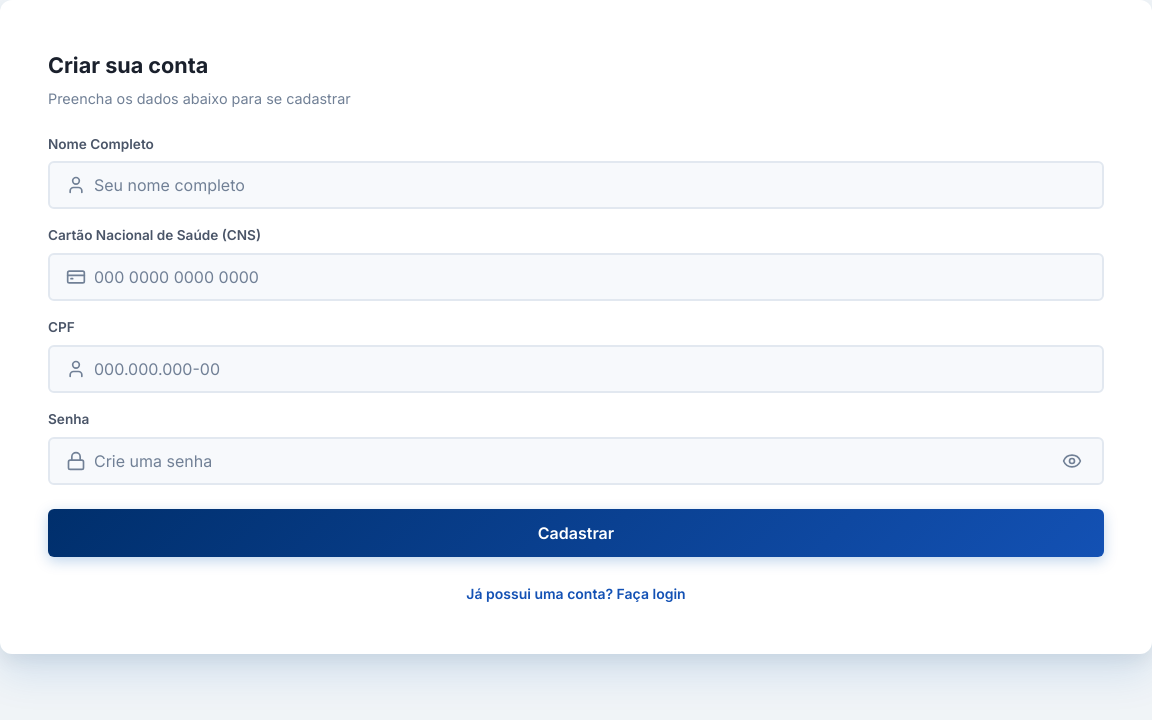
Scenario: 📝 RegisterForm — Validação de Formulário de Cadastro › TC-R03 | Deve rejeitar nome com menos de 3 caracteres
The width and height of the screenshot is (1152, 720).
Type "AB" into the field with placeholder "Seu nome completo" at (590, 185), box [94,167,1086,203]
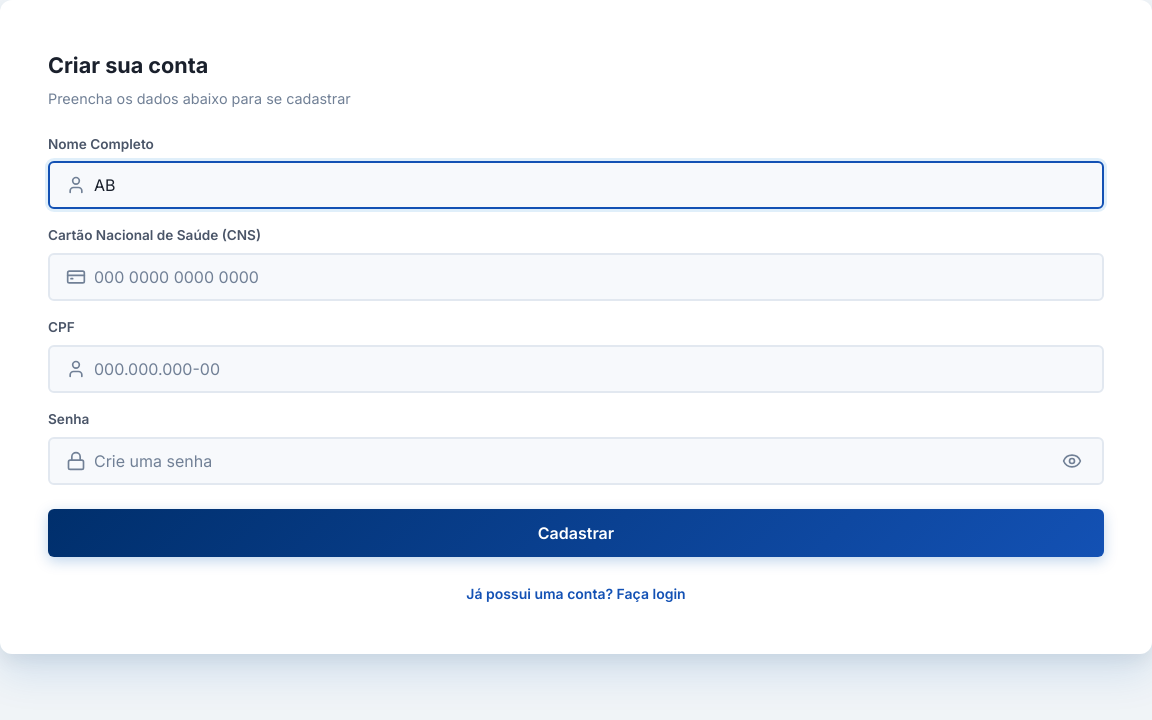
Click the button "Cadastrar" at (576, 533), box [48,509,1104,557]
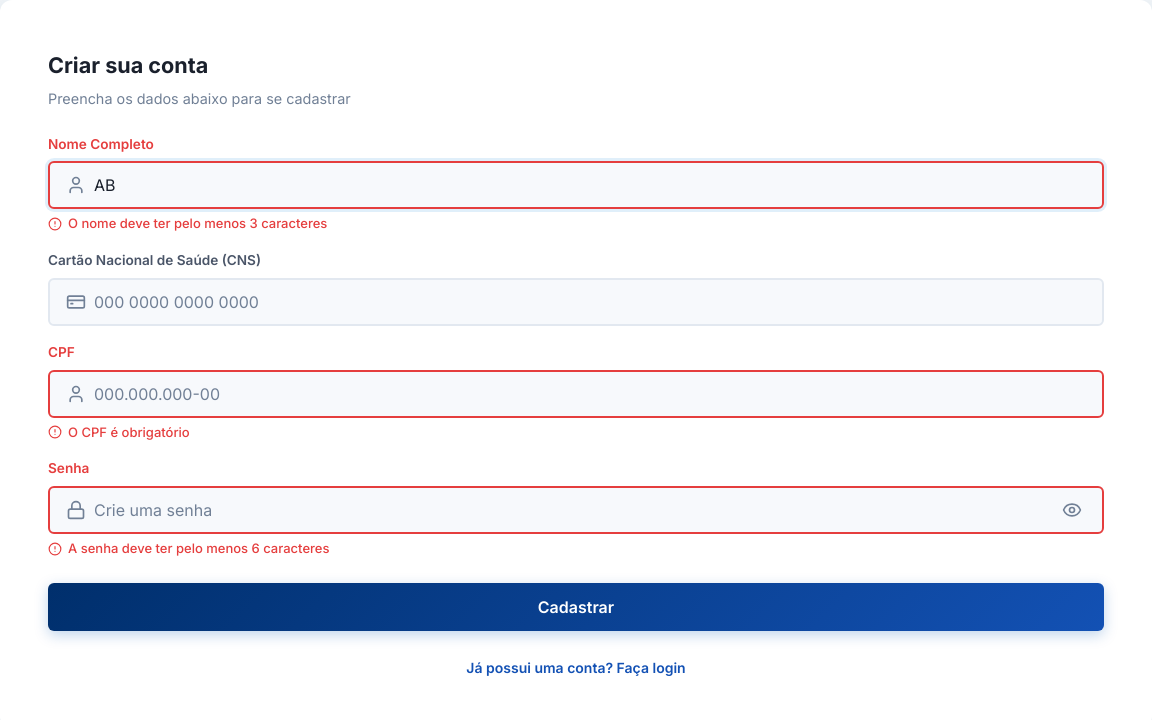
Check: the text "O nome deve ter pelo menos 3 caracteres" is shown, box [48,215,327,231]
